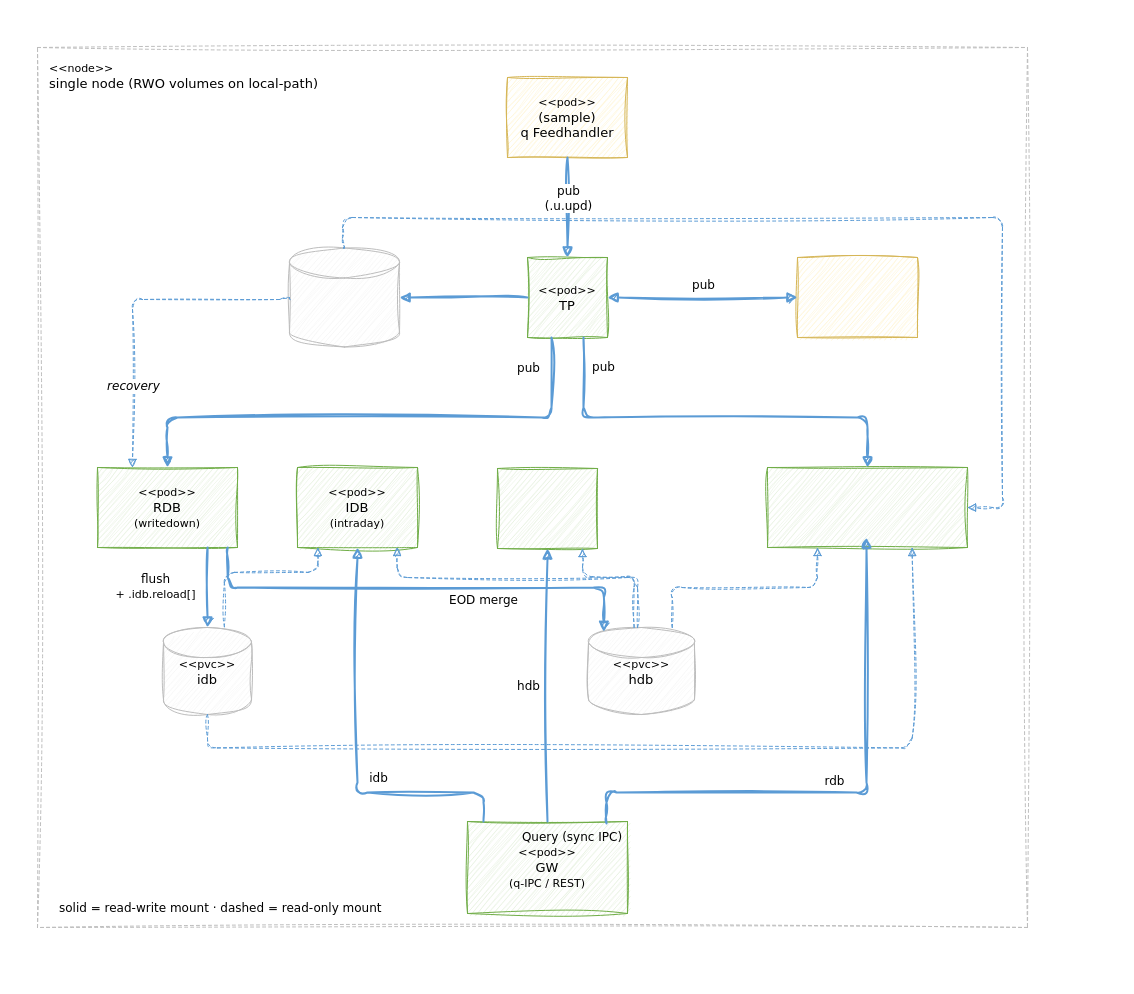
This 1134x994 diagram has some shape labels left out. The centre of each missing label's shape, as x and y in pixels:
"<<pod>> (sample) q RTE" goes at pixel 857 297.
"<<pod>> CHAINED_RDB (query replica)" goes at pixel 867 507.
"<<pod>> HDB" goes at pixel 547 508.
"<<pvc>> tplogs" goes at pixel 344 297.
